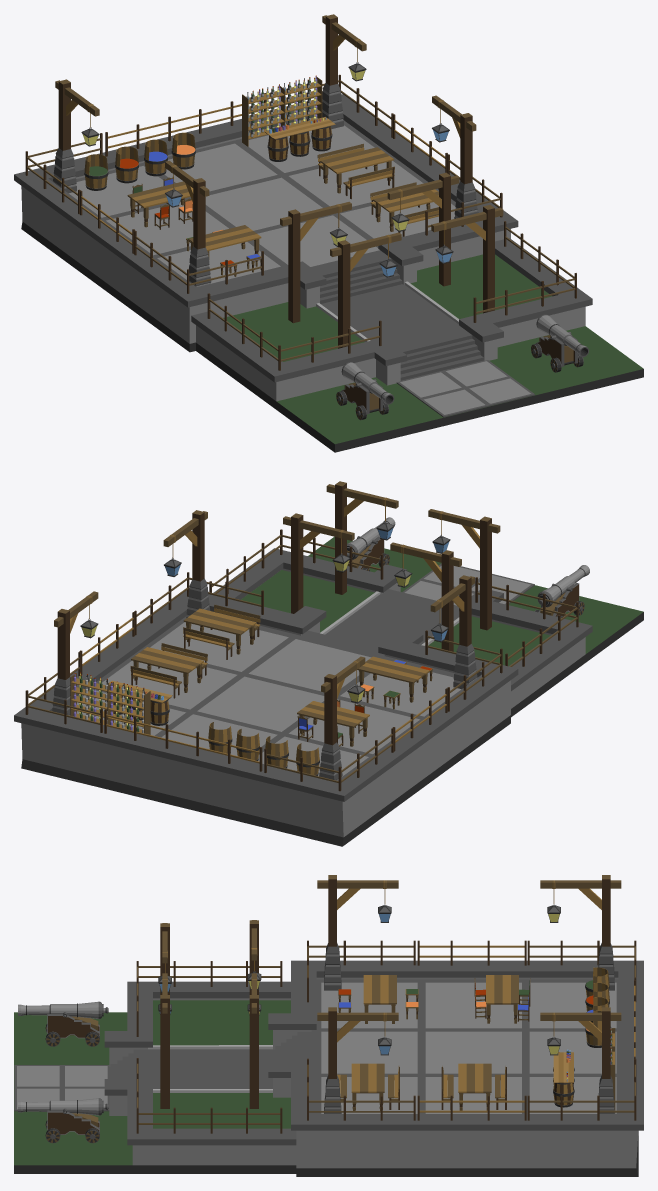
The model's file is wood_scen.FBX.
3 renders of one model, top to bottom at view 1: azimuth 30°, elevation 25°; view 2: azimuth 150°, elevation 25°; view 3: azimuth 270°, elevation 25°, orthographic.
Parts seen in each view (by area): view 1: wood_scen; view 2: wood_scen; view 3: wood_scen.
Boxes of the visible parts, bbox=[...] form: wood_scen: bbox=[14, 14, 643, 452]; wood_scen: bbox=[14, 481, 643, 846]; wood_scen: bbox=[14, 875, 643, 1176].
Bounding box in the file's own units: 578 × 254 × 940.
